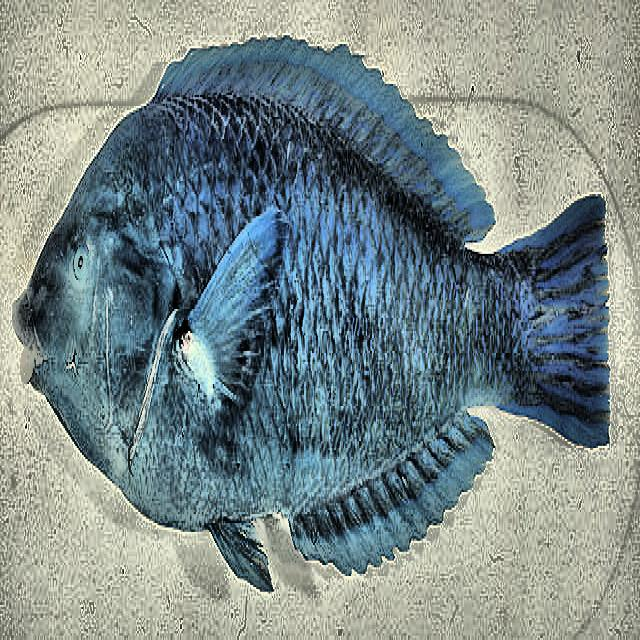fish: (12, 34, 606, 604)
